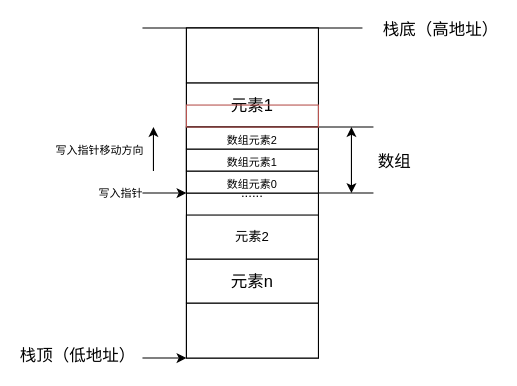
Image size: 517x386. Some labels were removed from this diagram. The shapes that lost their labels are listed below. From the top down, each one's centre as x and y in pixels, then its label:
At (251,55): "栈底元素".
At (251,115): "数组元素3".
At (251,330): "栈顶元素".
